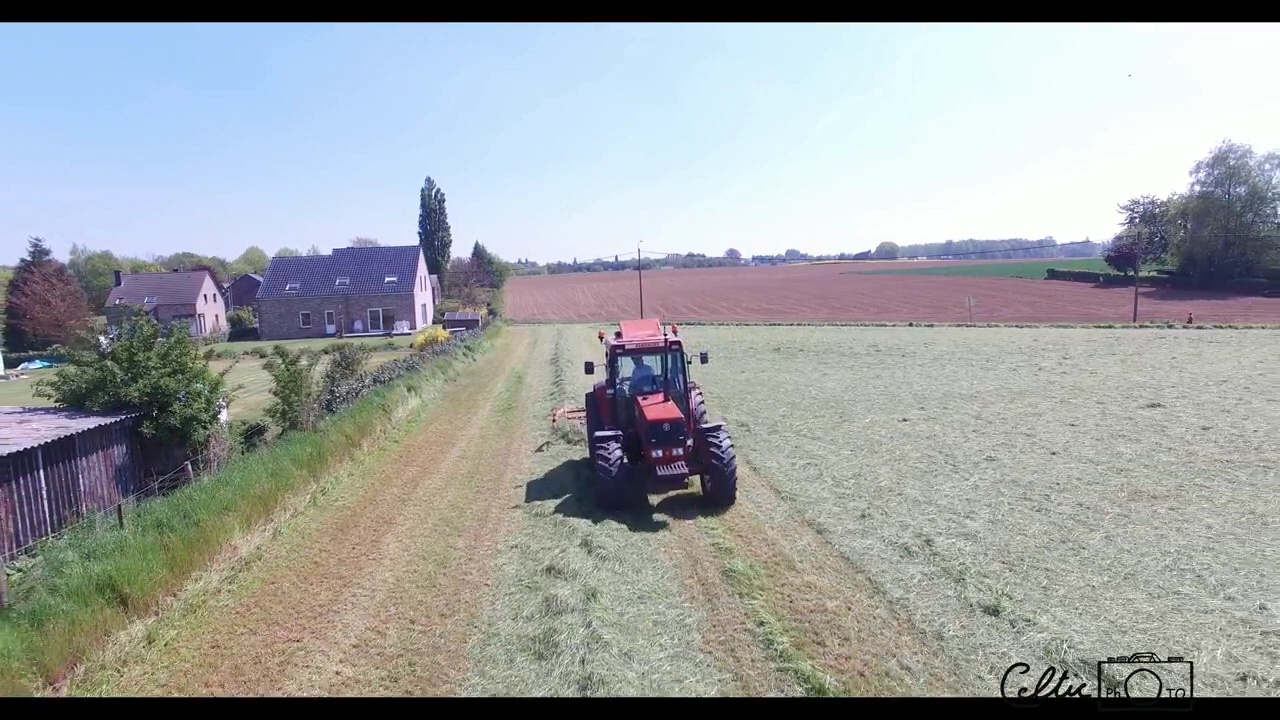traktor: (580, 316, 747, 508)
